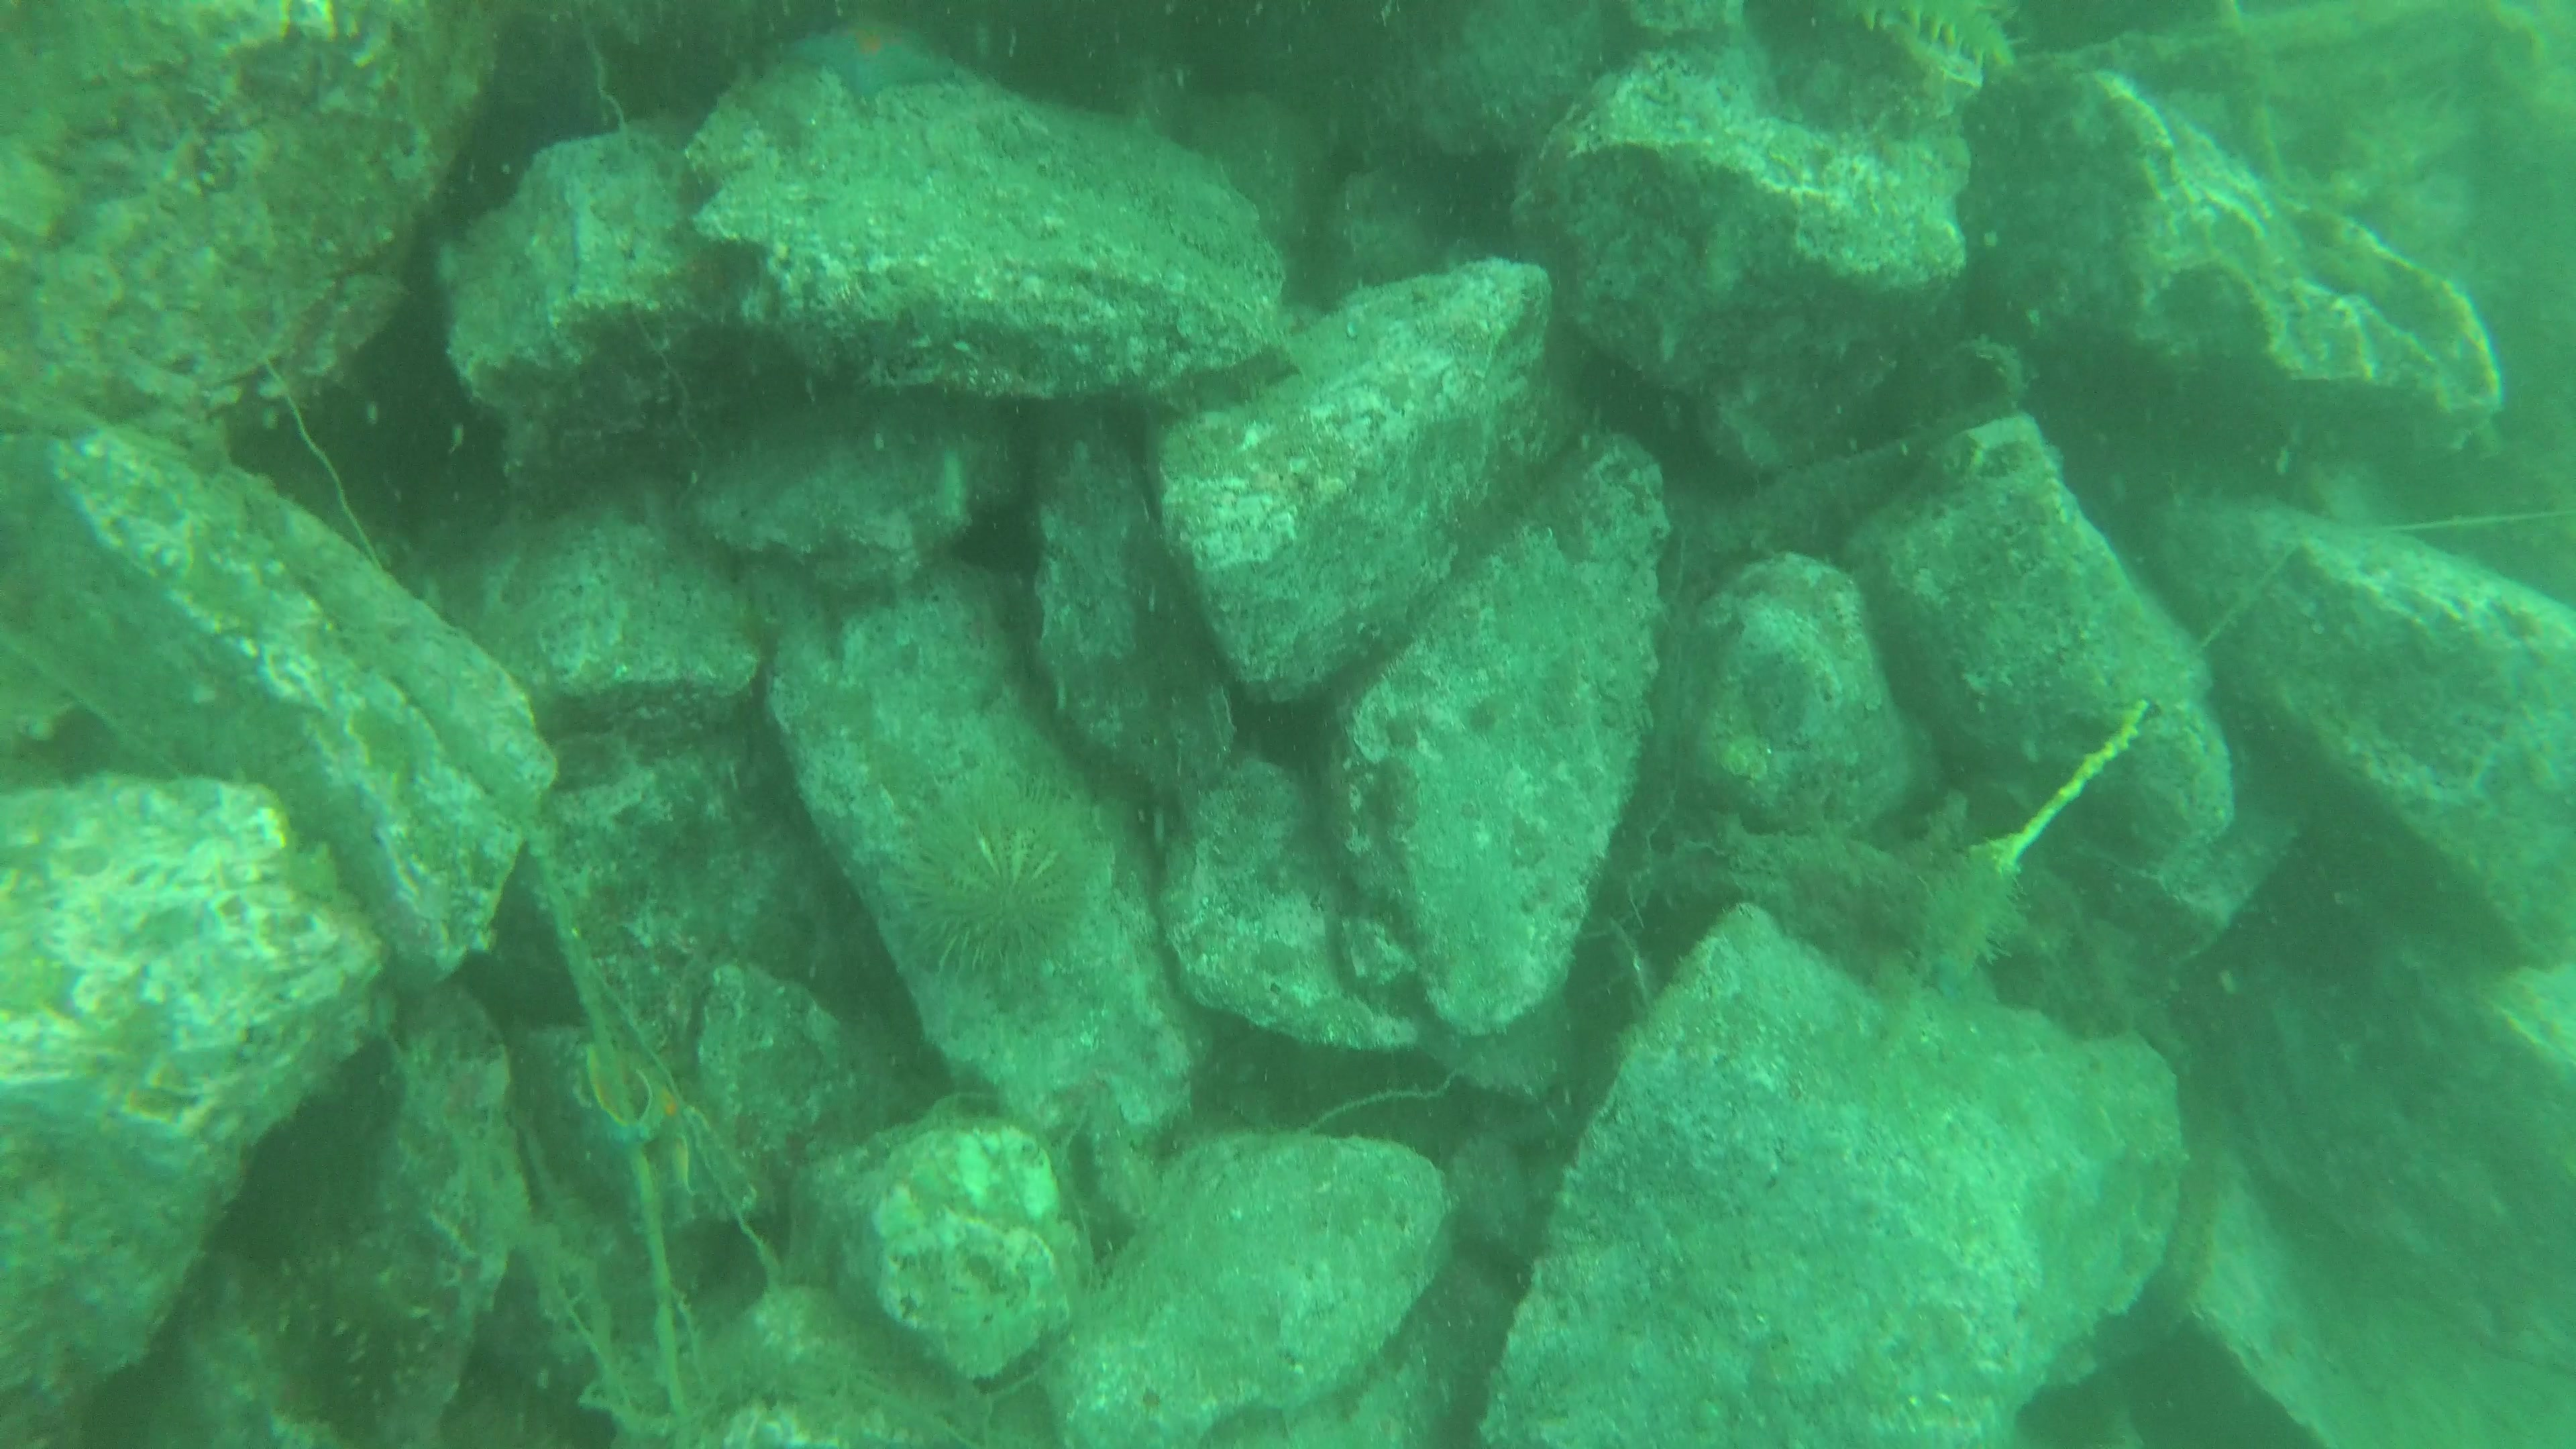echinus: (911, 823, 1106, 1005)
holothurian: (274, 1221, 456, 1435), (1829, 4, 1989, 94)
